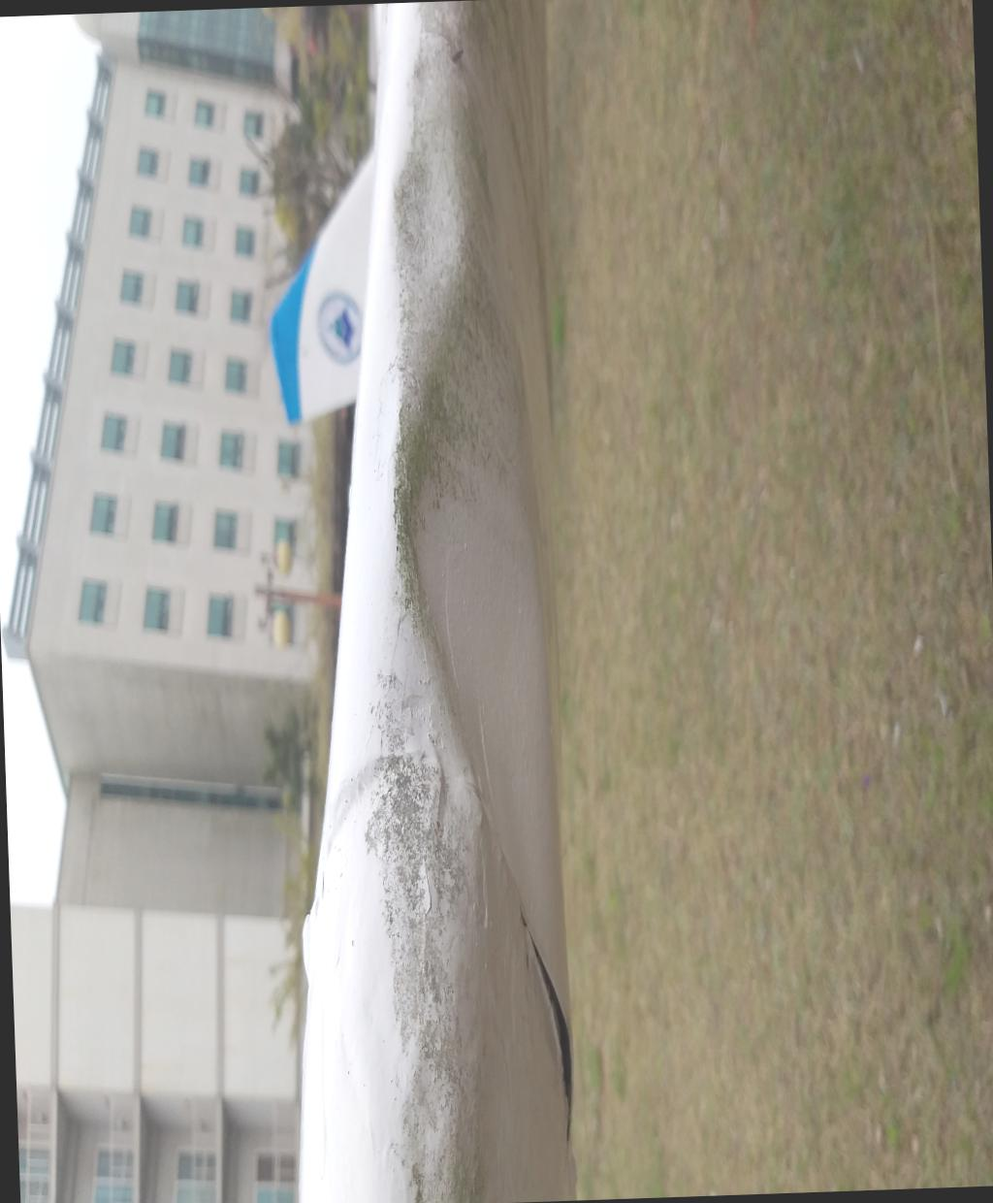dent: (115, 2, 438, 373), (18, 203, 112, 349)
